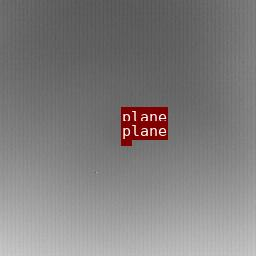plane: (121, 126, 134, 132), (121, 140, 131, 145)
